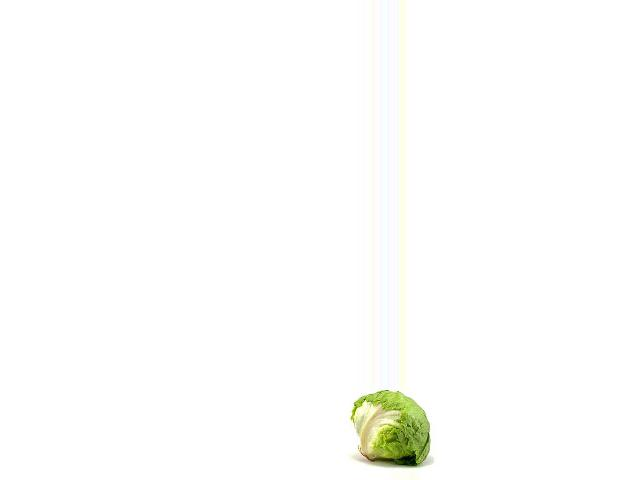lettuce: (349, 390, 432, 469)
